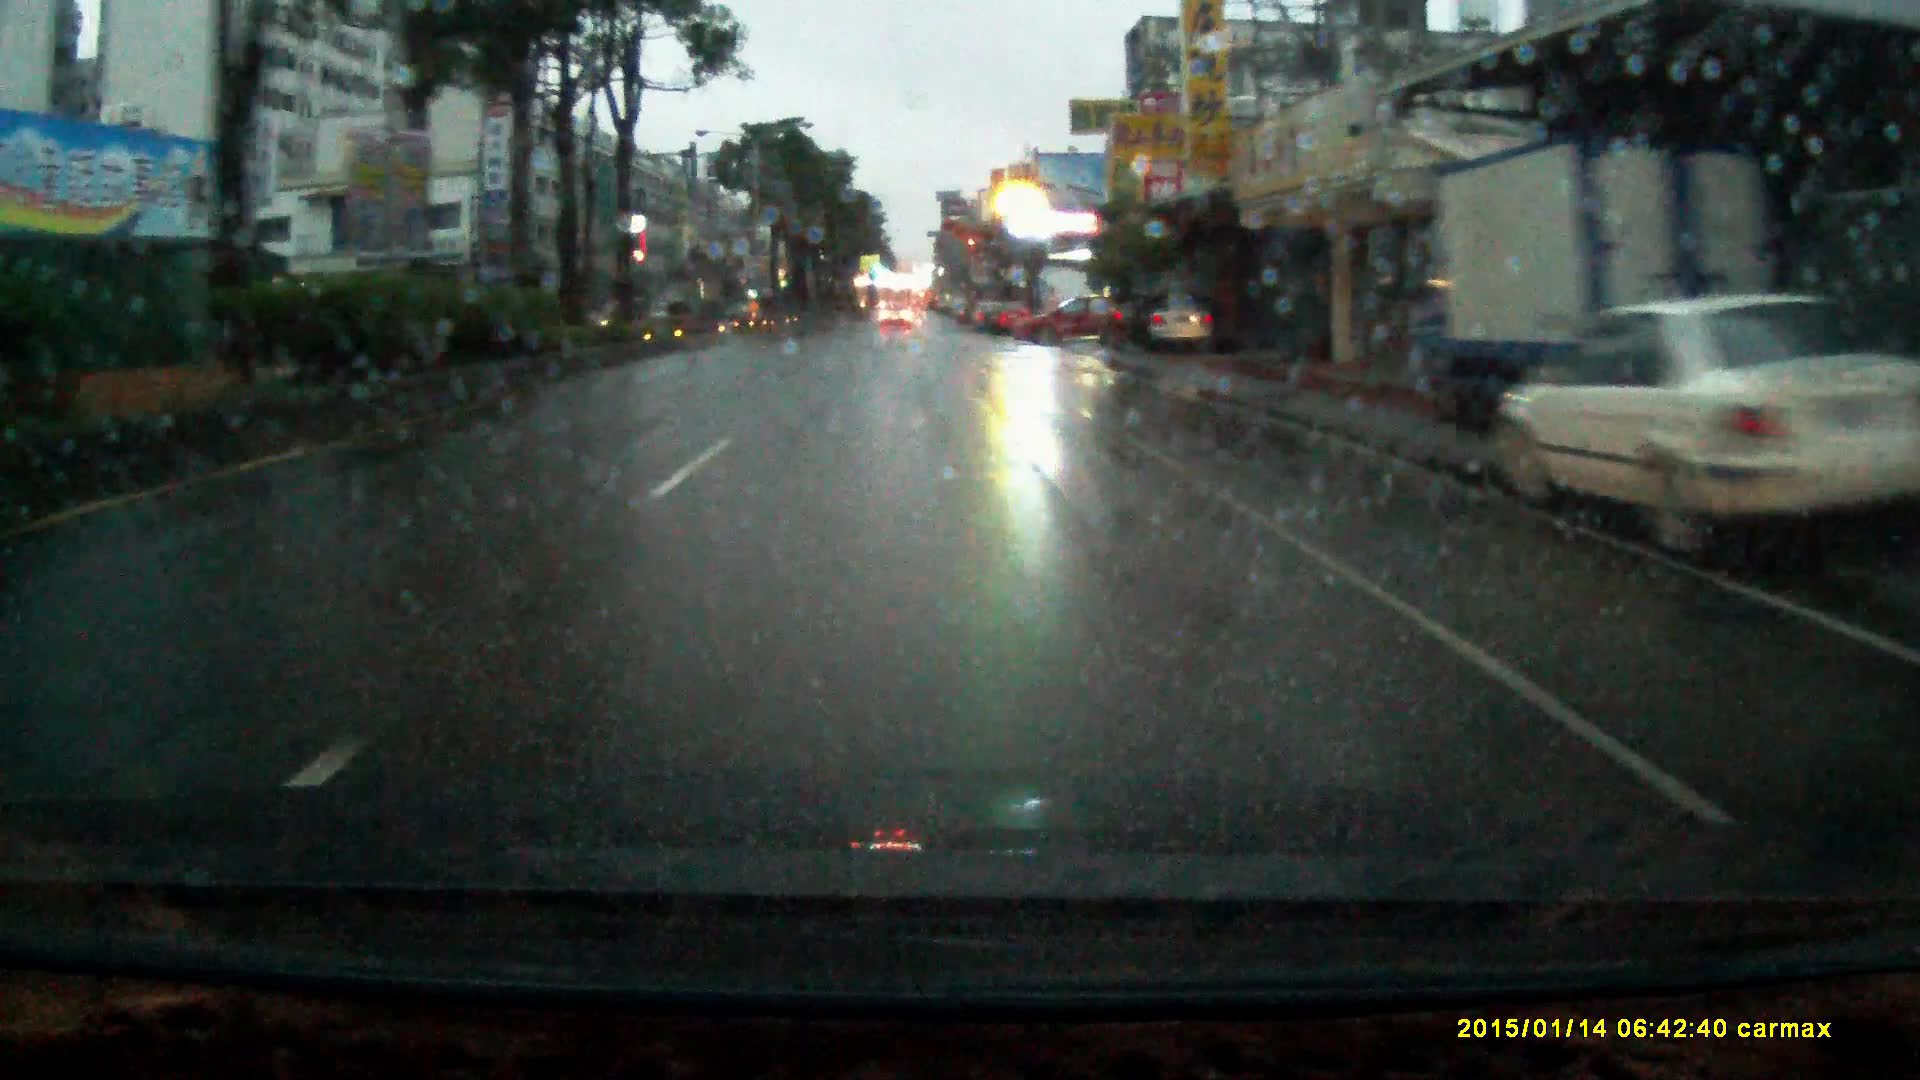vehicle: (1498, 297, 1920, 579), (1399, 111, 1772, 426), (1014, 291, 1125, 345), (1135, 291, 1218, 349), (1096, 293, 1164, 349), (992, 298, 1034, 332), (881, 305, 913, 332)
